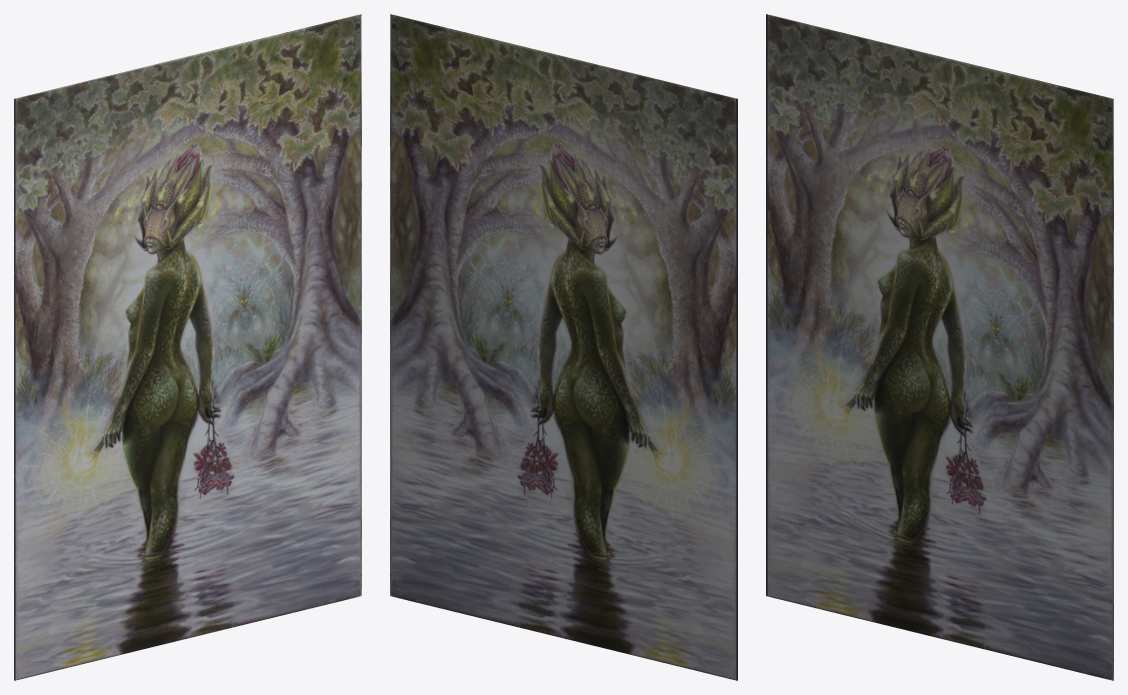
File: triangle-trace copy.obj
The picture shows the model from 3 angles, left to right: view 1: azimuth 30°, elevation 25°; view 2: azimuth 150°, elevation 25°; view 3: azimuth 330°, elevation 25°; orthographic projection.
Size of the model in its own units: 7.98 by 12.76 by 0.
Materials: 1 (1 with a texture image).
